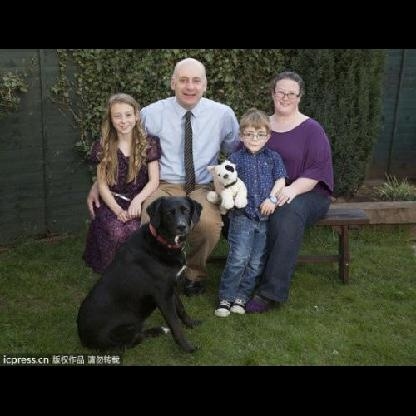人: (138, 57, 239, 293), (241, 72, 333, 312), (214, 108, 285, 317), (83, 92, 160, 273)
狗: (75, 194, 202, 351), (207, 158, 250, 211)
